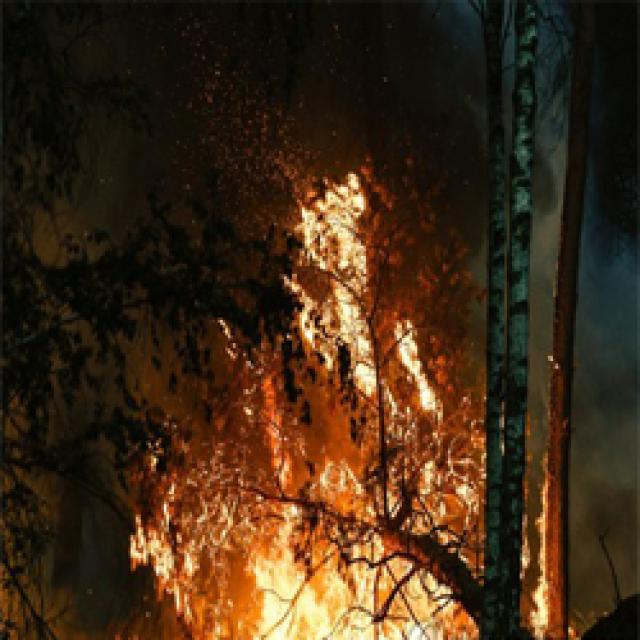Fire: (132, 412, 486, 640), (265, 152, 382, 396), (516, 401, 552, 640), (380, 303, 454, 413), (216, 314, 262, 396)
Smoke: (532, 0, 640, 397), (246, 1, 484, 157), (17, 358, 125, 640), (27, 0, 140, 253), (571, 397, 640, 640)
